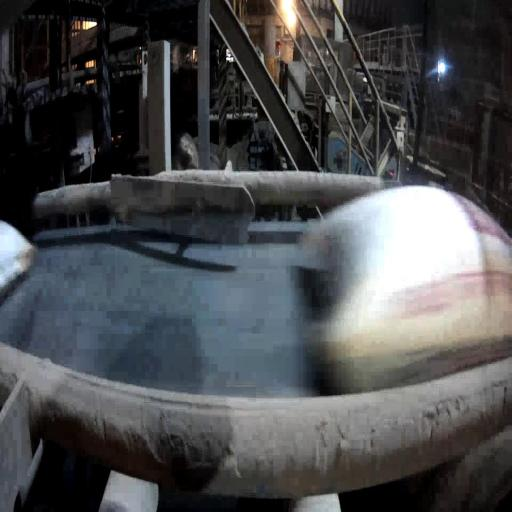c-belt-sack-count: (295, 185, 512, 393)
